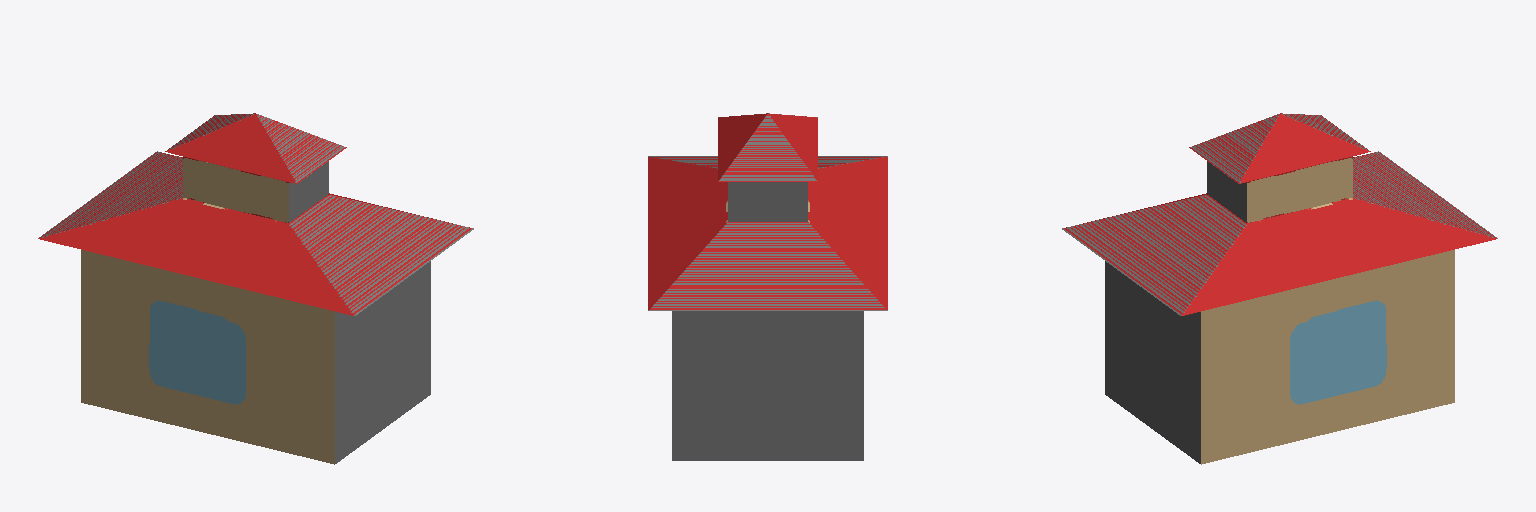
3 renders of one model, left to right at view 1: azimuth 30°, elevation 25°; view 2: azimuth 150°, elevation 25°; view 3: azimuth 270°, elevation 25°, orthographic.
Parts seen in each view (by area): view 1: pCube1; view 2: pCube1; view 3: pCube1.
Boxes of the visible parts, x1=… form: pCube1: x1=38, y1=113, x2=473, y2=464; pCube1: x1=648, y1=113, x2=887, y2=460; pCube1: x1=1062, y1=113, x2=1497, y2=464.
Size of the model in its own units: 2.86 by 2.3 by 3.2.
Materials: 1 (1 with a texture image).